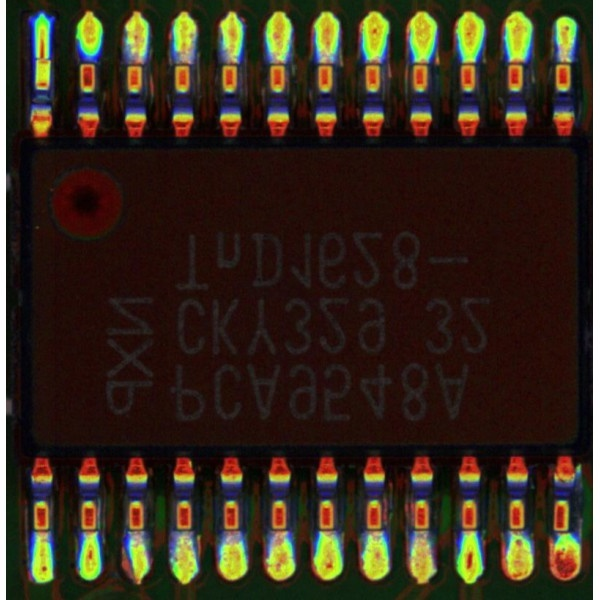Bad_podu: (35, 516, 48, 553), (273, 516, 287, 547), (369, 516, 380, 553), (416, 516, 427, 549), (36, 39, 46, 74)
